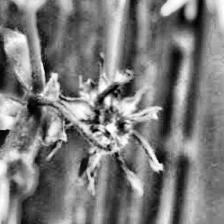Gray Mold: (28, 53, 163, 195)
